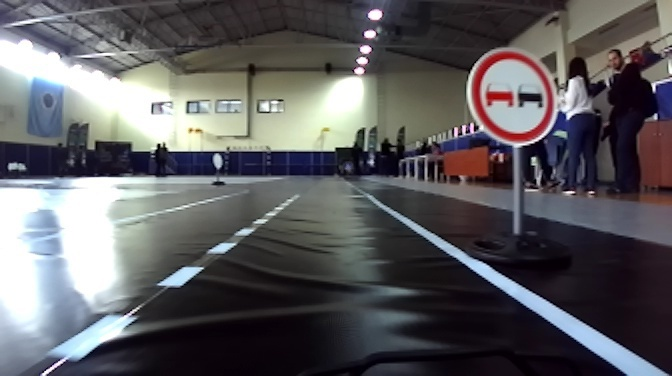sollama_yasak: (468, 46, 559, 148)
